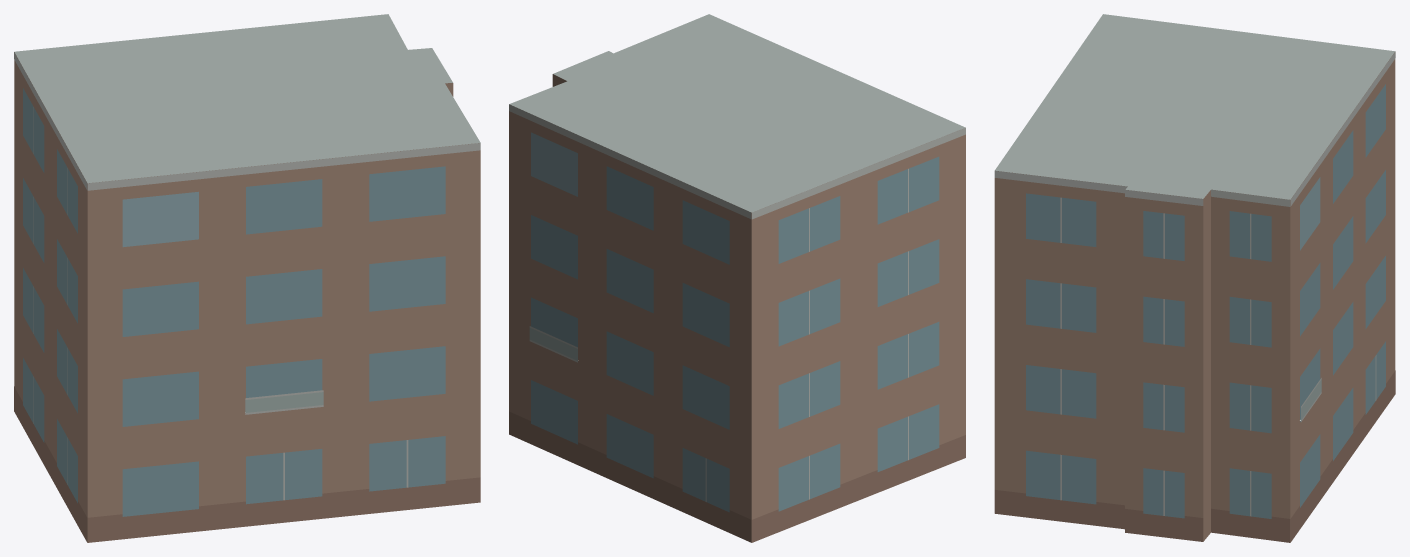
File: survey-upis-32880567.glb
The picture shows the model from 3 angles, left to right: view 1: azimuth 30°, elevation 25°; view 2: azimuth 150°, elevation 25°; view 3: azimuth 270°, elevation 25°; orthographic projection. The views are drawn at different scales.
Visible parts, largest first — view 1: survey-upis-32880567.tmp; view 2: survey-upis-32880567.tmp; view 3: survey-upis-32880567.tmp.
Boxes of the visible parts, x1,y1,x2,y2 form: survey-upis-32880567.tmp: (14,14,480,542); survey-upis-32880567.tmp: (509,14,965,542); survey-upis-32880567.tmp: (994,14,1395,542).
Bounding box in the file's own units: 13.54 × 11.65 × 12.35.
